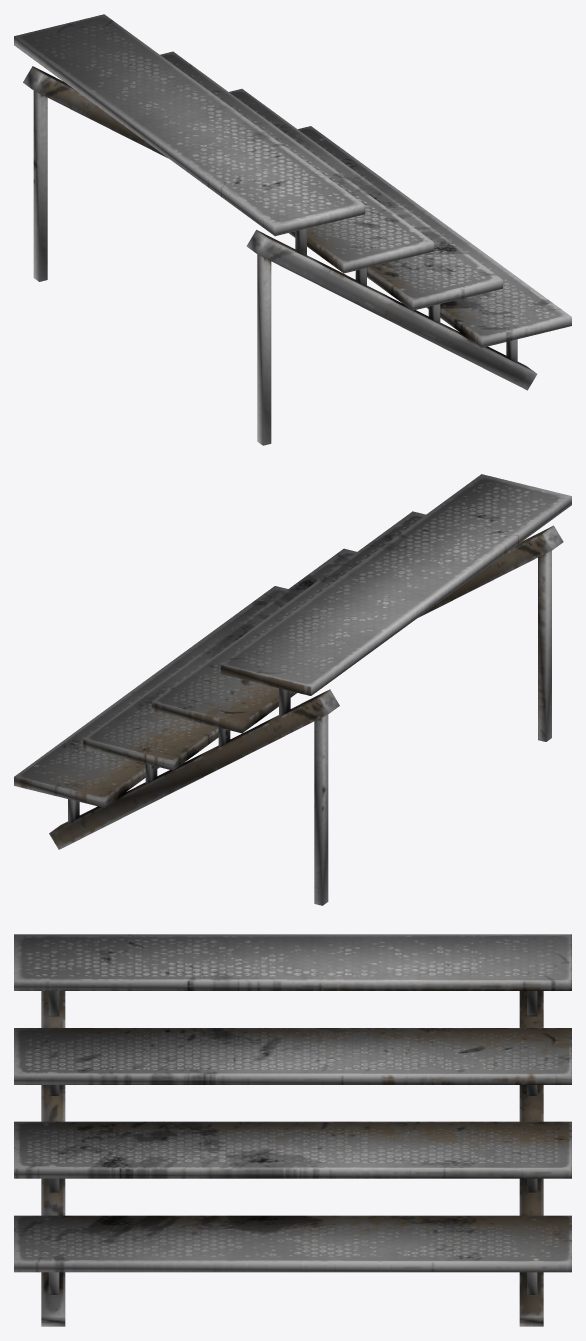
Rendered from stairsSmall.fbx.
The picture shows the model from 3 angles, top to bottom: view 1: azimuth 30°, elevation 25°; view 2: azimuth 150°, elevation 25°; view 3: azimuth 270°, elevation 25°; orthographic projection. The views are drawn at different scales.
Parts seen in each view (by area): view 1: StairsSmall; view 2: StairsSmall; view 3: StairsSmall.
Part boxes in pixels (x1,y1,x2,y2): StairsSmall: [14, 14, 571, 445]; StairsSmall: [14, 474, 571, 905]; StairsSmall: [14, 934, 571, 1326].
Bounding box in the file's own units: 1.69 × 1.27 × 2.54.
